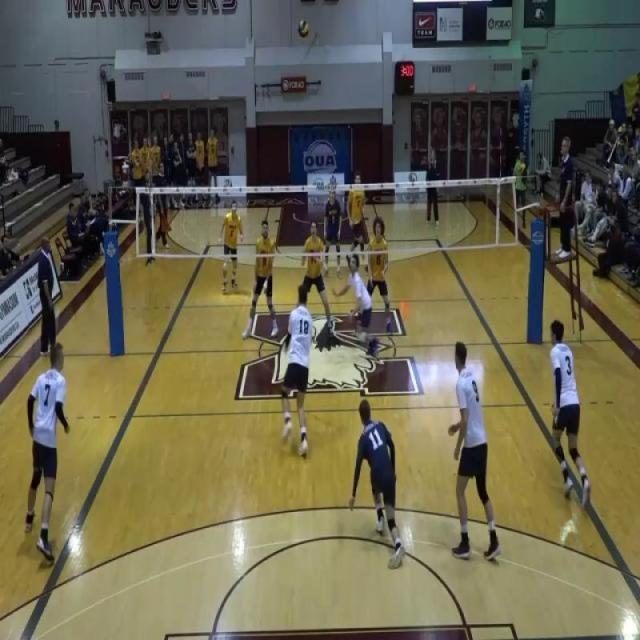volleyball: (297, 17, 310, 40), (519, 162, 526, 174)
